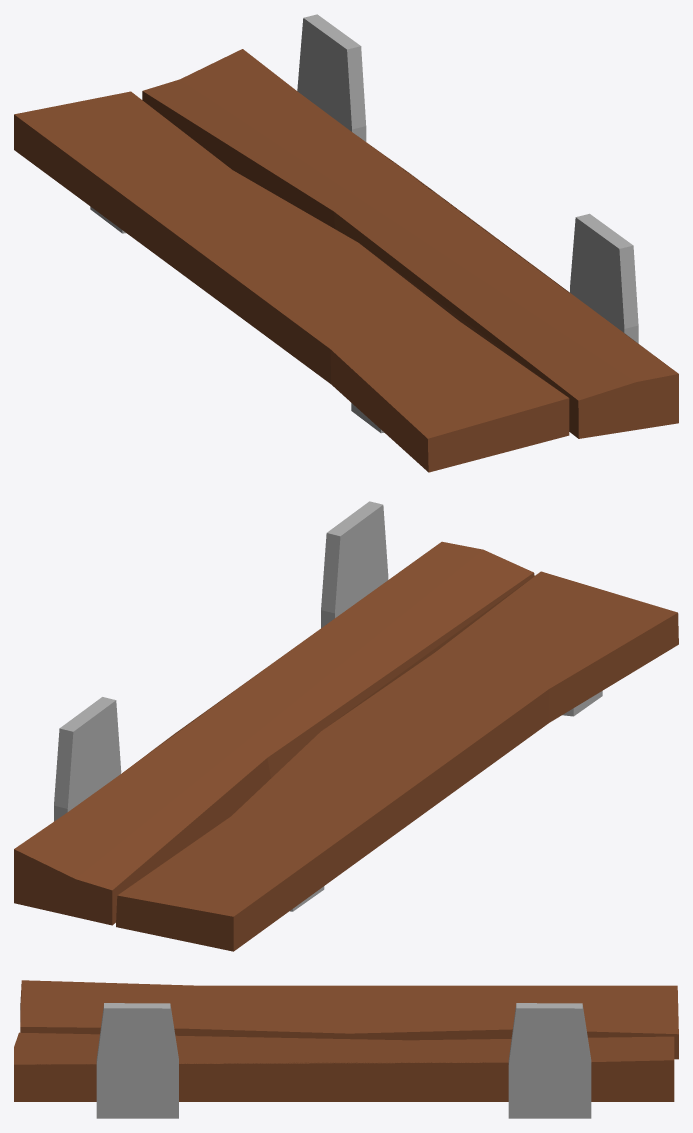
File: shelveswood01.gltf
3 views of the same model, one above another, from view 1: azimuth 30°, elevation 25°; view 2: azimuth 150°, elevation 25°; view 3: azimuth 270°, elevation 25° (orthographic). The views are drawn at different scales.
Parts seen in each view (by area): view 1: Cube.001; view 2: Cube.001; view 3: Cube.001.
Boxes of the visible parts, x1=… form: Cube.001: x1=14, y1=14, x2=678, y2=472; Cube.001: x1=14, y1=501, x2=678, y2=951; Cube.001: x1=14, y1=980, x2=678, y2=1118.
Bounding box in the file's own units: 0.2066 × 0.1107 × 0.6042.
1 material, 1 textured.
